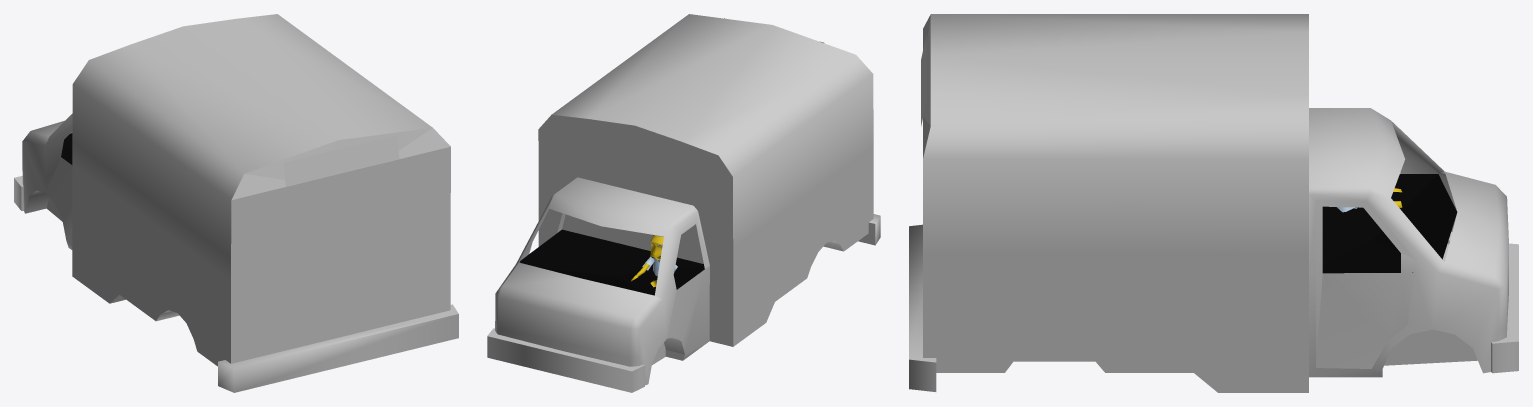
The model's file is merged_school_bus.fbx.
3 renders of one model, left to right at view 1: azimuth 30°, elevation 25°; view 2: azimuth 150°, elevation 25°; view 3: azimuth 270°, elevation 25°, orthographic. The views are drawn at different scales.
Visible parts, largest first — view 1: bus_2, bus_3; view 2: bus_2, bus_1, bus_3; view 3: bus_2, bus_3, bus_1.
Boxes of the visible parts, left/top/right/bottom form: bus_2: left=14, top=14, right=458, bottom=392; bus_3: left=109, top=135, right=399, bottom=315; bus_2: left=487, top=14, right=880, bottom=392; bus_1: left=519, top=229, right=704, bottom=295; bus_3: left=584, top=18, right=846, bottom=274; bus_2: left=909, top=14, right=1518, bottom=392; bus_3: left=921, top=34, right=1213, bottom=329; bus_1: left=1322, top=174, right=1457, bottom=273.
Size of the model in its own units: 310 by 282 by 573.
